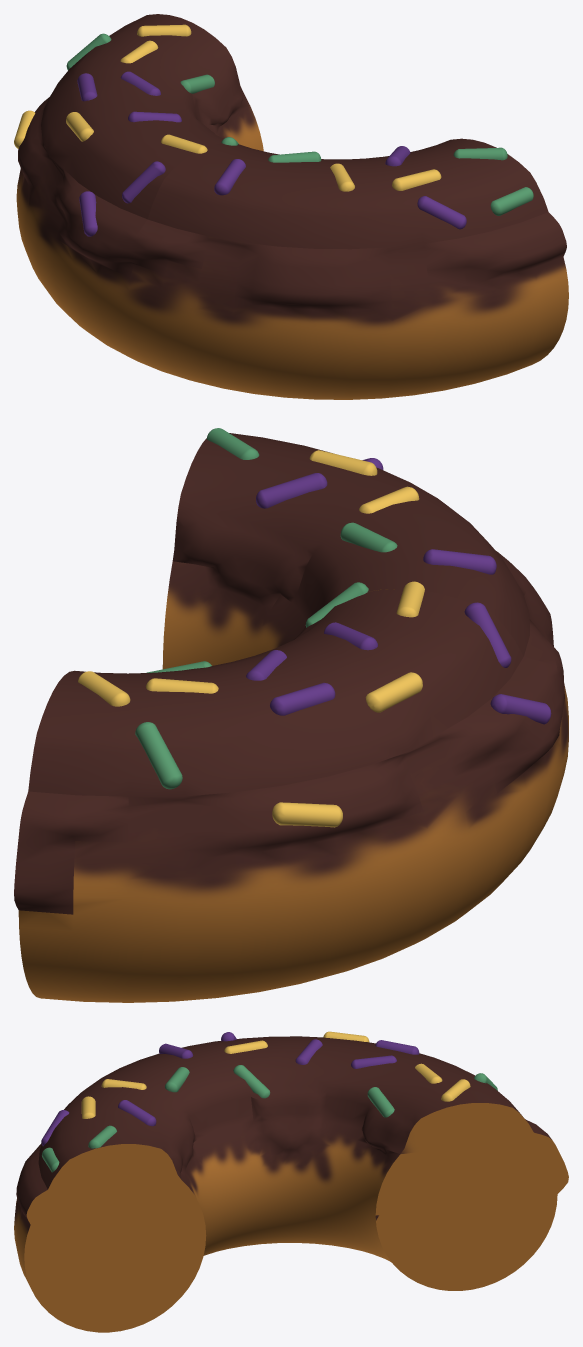
File: donut3_LOD1.fbx
3 renders of one model, top to bottom at view 1: azimuth 30°, elevation 25°; view 2: azimuth 150°, elevation 25°; view 3: azimuth 270°, elevation 25°, orthographic. The views are drawn at different scales.
Visible parts, largest first — view 1: pTorus2; view 2: pTorus2; view 3: pTorus2.
Boxes of the visible parts, left/top/right/bottom form: pTorus2: left=14, top=14, right=568, bottom=399; pTorus2: left=14, top=428, right=568, bottom=1002; pTorus2: left=14, top=1031, right=568, bottom=1332.
Size of the model in its own units: 141 by 84.5 by 220.
1 material, 1 textured.
